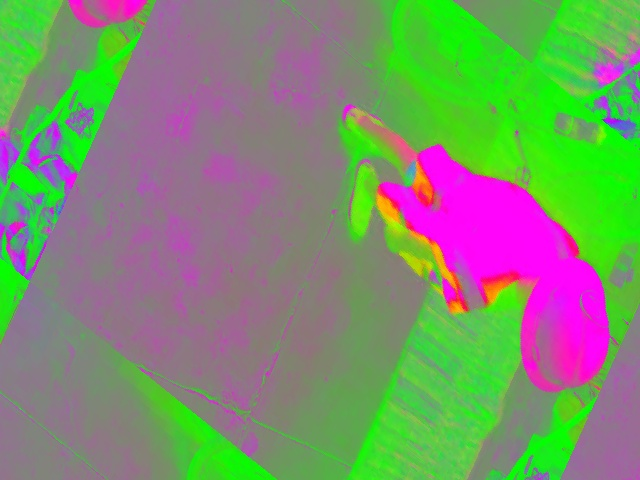two: (576, 284, 615, 331)
